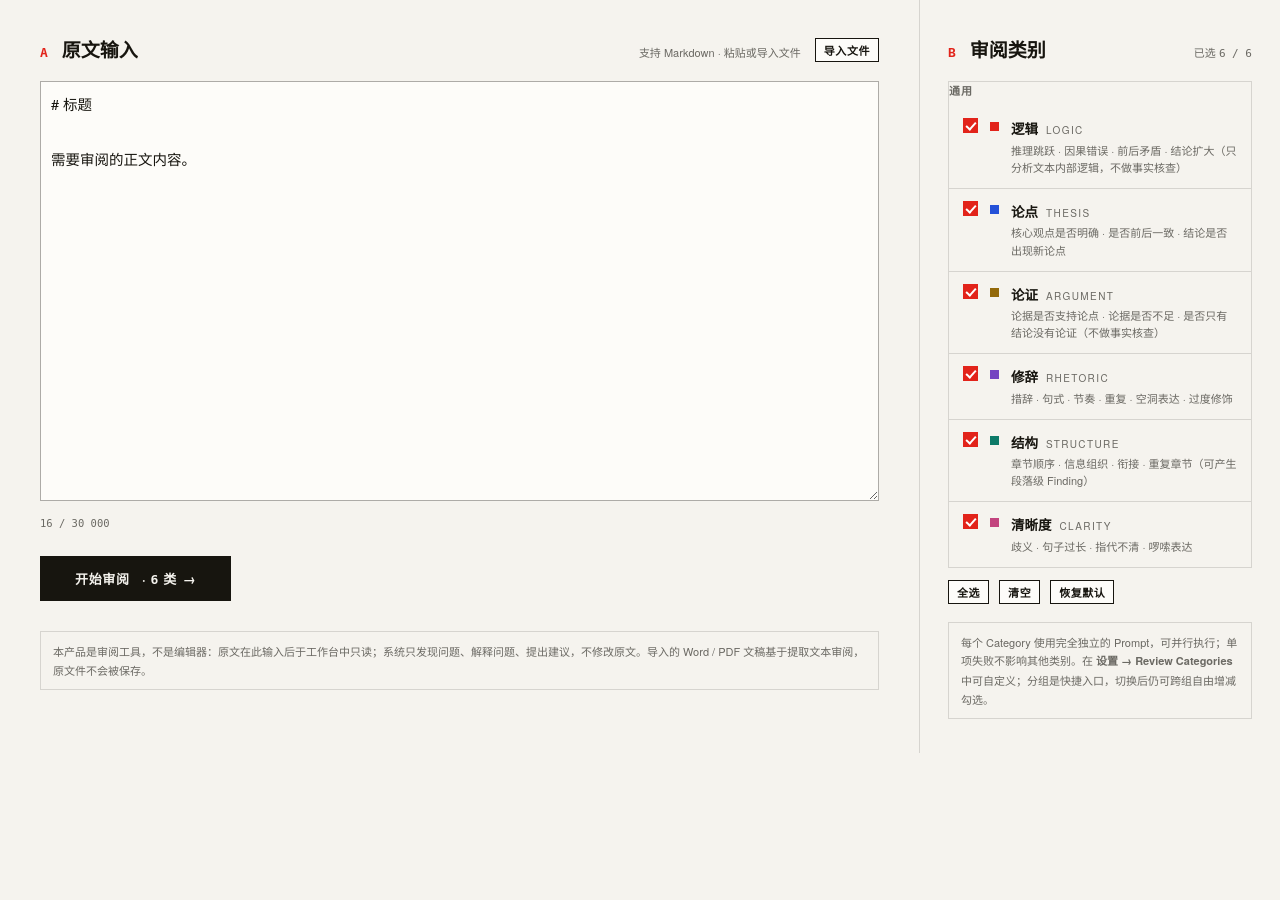
启动失败的可见性 › 启动即失败（无 run）→ 跳回新建页并显示错误
Click the button "开始审阅 · 6 类 →": (136, 579) [40,556,232,601]
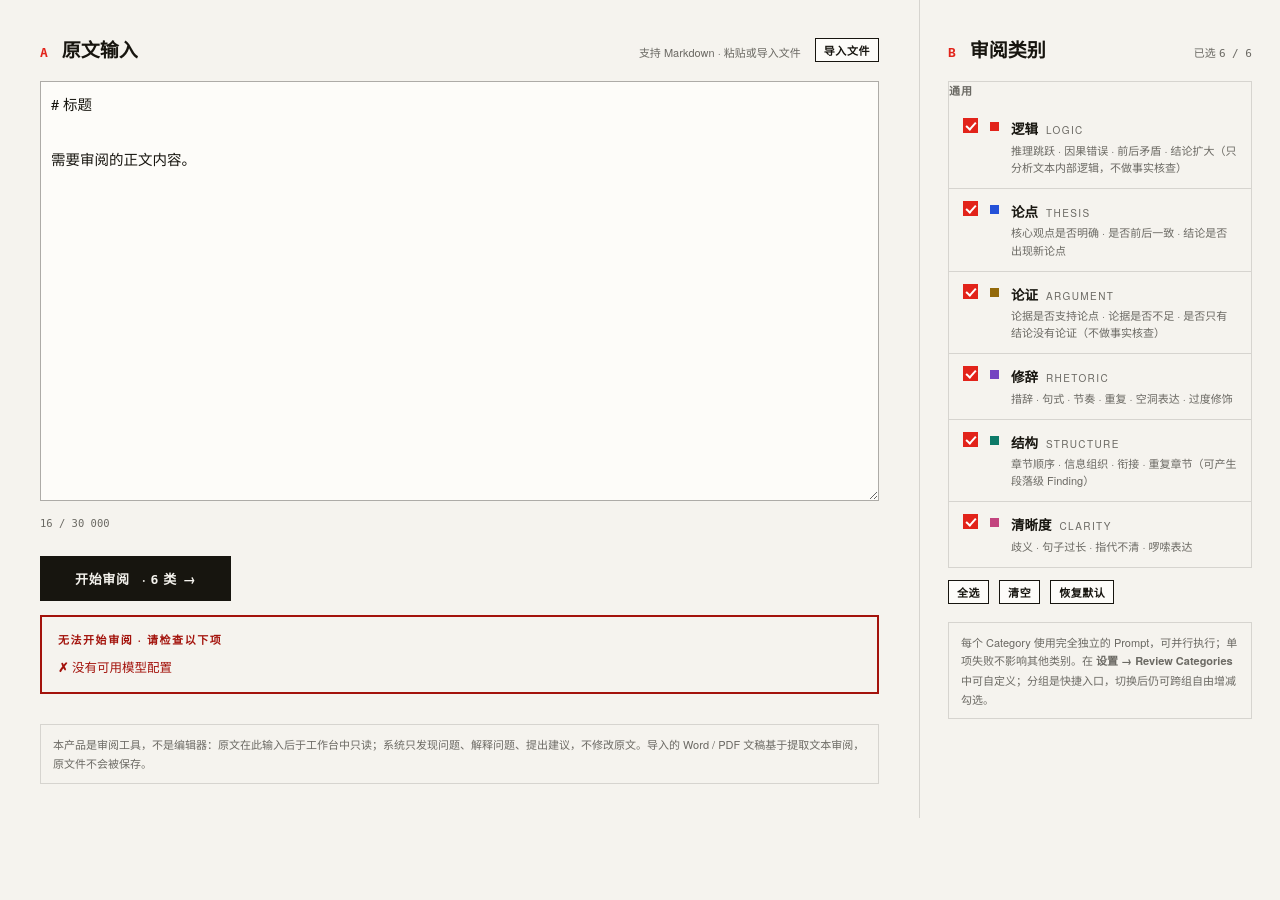
Check: the element with class "errbox" shows "没有可用模型配置", box [72,658,172,676]
